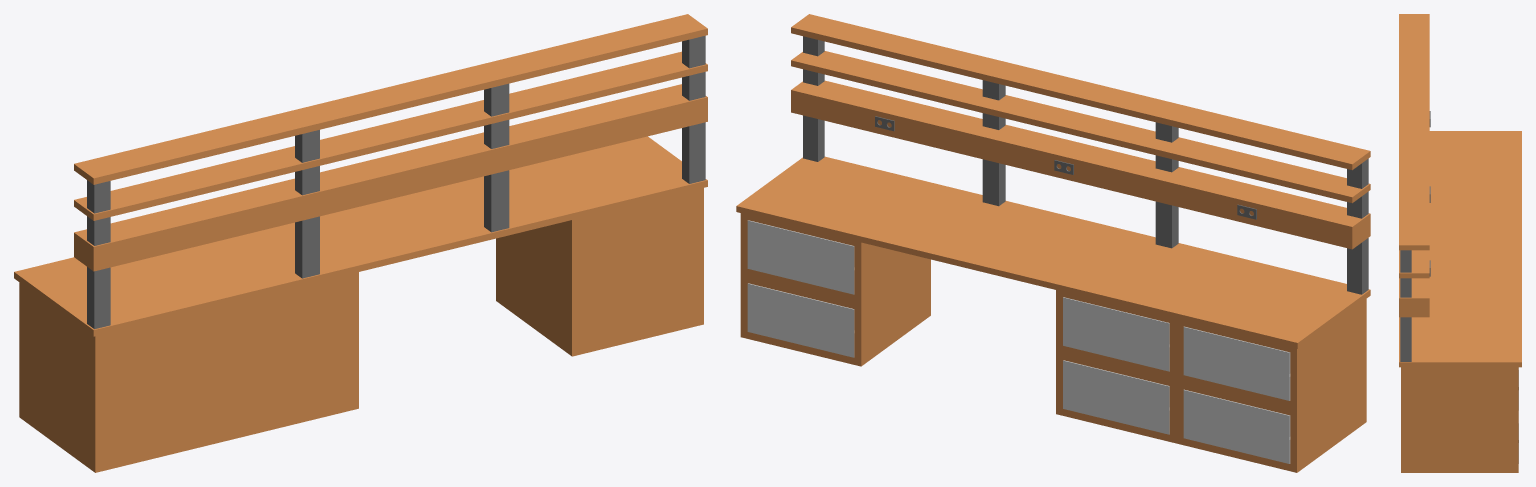
Rendered from Drawer_Desk.fbx.
3 renders of one model, left to right at view 1: azimuth 30°, elevation 25°; view 2: azimuth 150°, elevation 25°; view 3: azimuth 270°, elevation 25°, orthographic. The views are drawn at different scales.
Parts seen in each view (by area): view 1: Cube; view 2: Cube, Cube.002, Cube.001, Cube.006, Cube.005, Cube.003, Cube.004; view 3: Cube.
Part boxes in pixels (<box>): Cube: <box>14,14,707,472</box>; Cube: <box>736,14,1370,472</box>; Cube.002: <box>747,283,854,357</box>; Cube.001: <box>747,220,854,294</box>; Cube.006: <box>1183,389,1290,463</box>; Cube.005: <box>1183,326,1290,400</box>; Cube.003: <box>1063,360,1169,434</box>; Cube.004: <box>1063,297,1169,371</box>; Cube: <box>1399,14,1521,472</box>.
Bounding box in the file's own units: 890 × 410 × 200.
